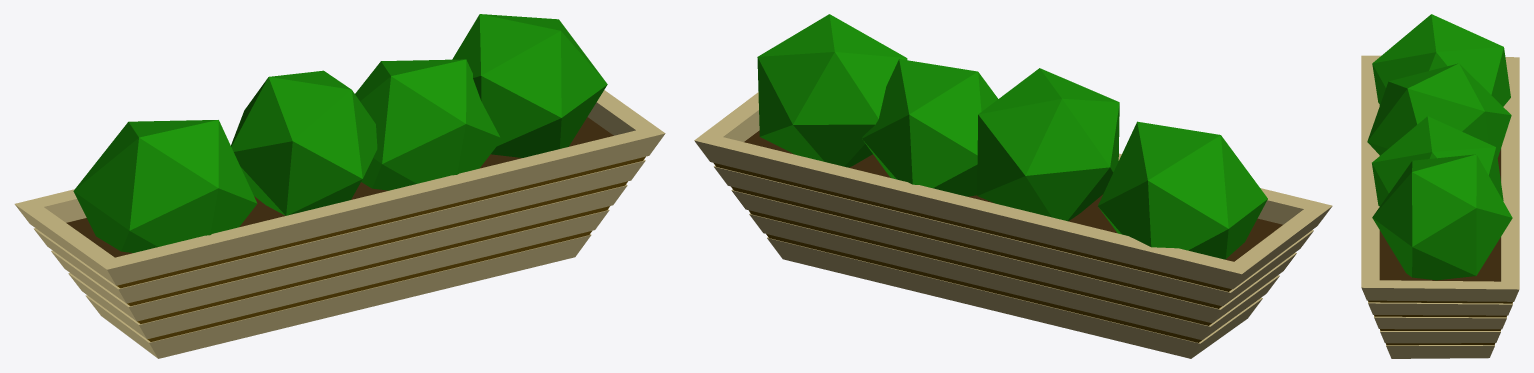
File: Pot Plant.fbx
3 renders of one model, left to right at view 1: azimuth 30°, elevation 25°; view 2: azimuth 150°, elevation 25°; view 3: azimuth 270°, elevation 25°, orthographic. The views are drawn at different scales.
Visible parts, largest first — view 1: pCube3, pPlatonic3, pPlatonic4, pPlatonic1, pPlatonic2; view 2: pCube3, pPlatonic4, pPlatonic3, pPlatonic1, pPlatonic2; view 3: pCube3, pPlatonic1, pPlatonic4, pPlatonic3, pPlatonic2.
Boxes of the visible parts, <box> form: pCube3: <box>14,90,665,358</box>; pPlatonic3: <box>73,120,257,252</box>; pPlatonic4: <box>231,70,377,215</box>; pPlatonic1: <box>452,14,607,157</box>; pPlatonic2: <box>355,59,500,190</box>; pCube3: <box>694,92,1332,358</box>; pPlatonic4: <box>977,68,1119,221</box>; pPlatonic3: <box>1098,121,1267,259</box>; pPlatonic1: <box>757,14,907,167</box>; pPlatonic2: <box>862,59,997,196</box>; pCube3: <box>1361,55,1519,358</box>; pPlatonic1: <box>1372,154,1512,280</box>; pPlatonic4: <box>1367,63,1511,157</box>; pPlatonic3: <box>1372,14,1510,106</box>; pPlatonic2: <box>1372,116,1503,206</box>.
Bounding box in the file's own units: 6.34 × 2.37 × 1.82.
